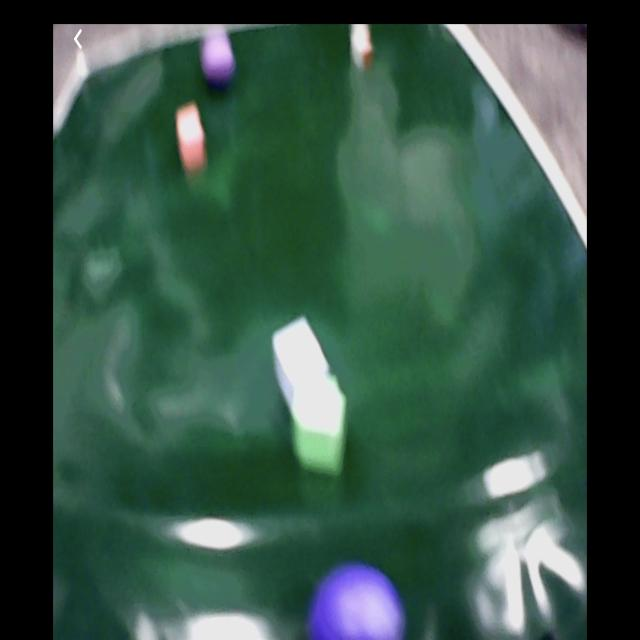ball: (311, 567, 407, 640), (203, 37, 235, 83)
